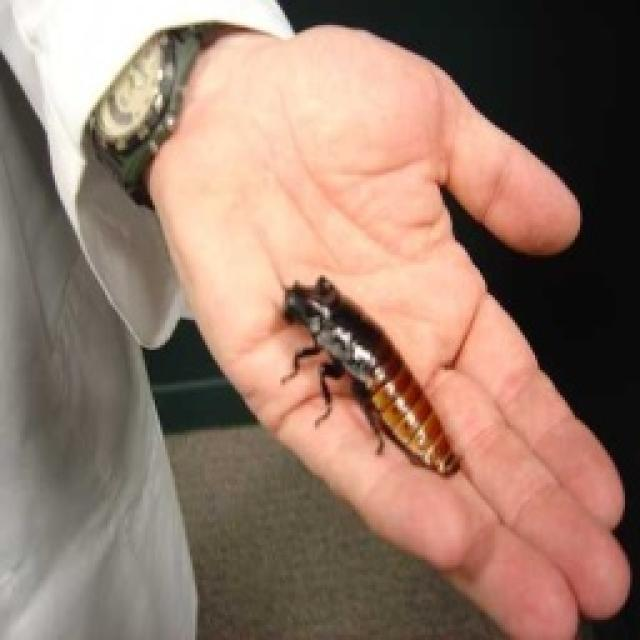cockroach: (275, 271, 467, 479)
